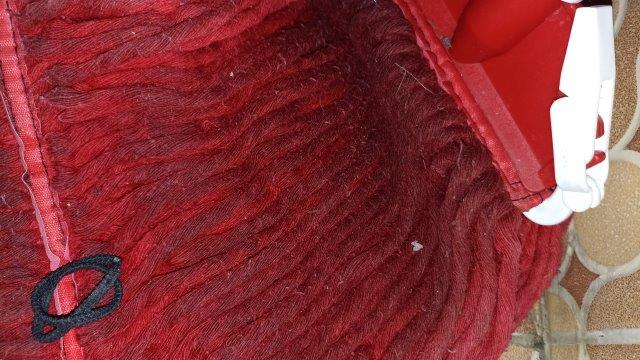karet: (32, 255, 123, 344)
